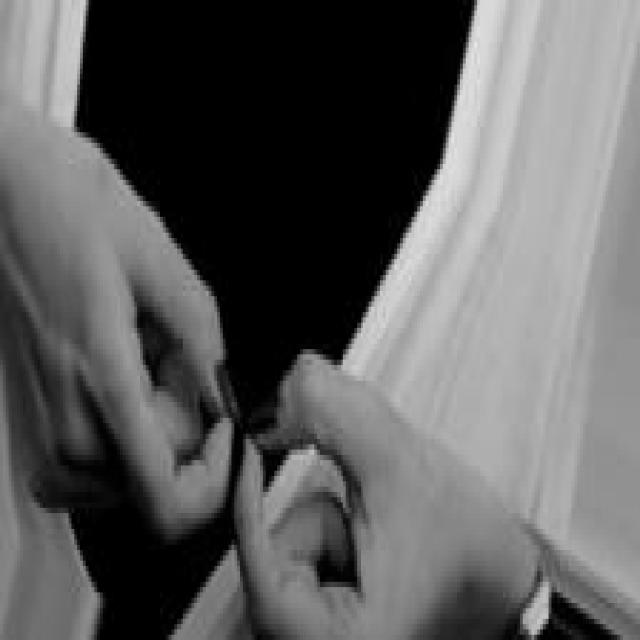B: (0, 66, 637, 635)
